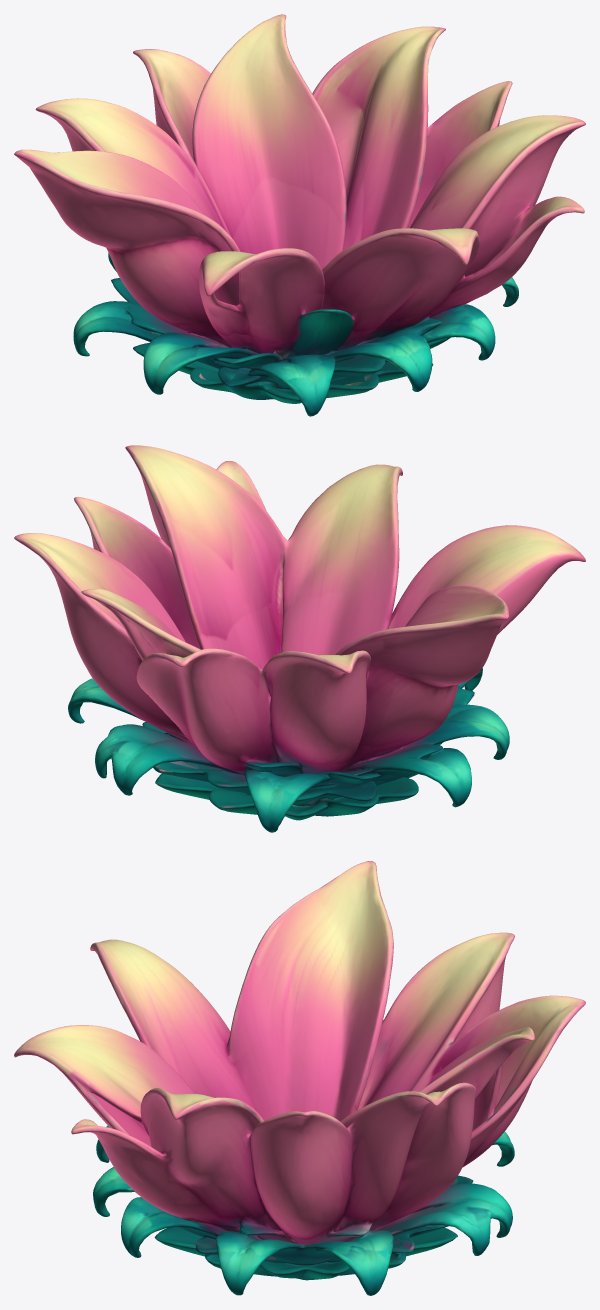
Rendered from pink-portal.glb.
3 views of the same model, one above another, from view 1: azimuth 30°, elevation 25°; view 2: azimuth 150°, elevation 25°; view 3: azimuth 270°, elevation 25° (orthographic). The views are drawn at different scales.
Visible parts, largest first — view 1: node_0; view 2: node_0; view 3: node_0.
Part boxes in pixels (x1,y1,x2,y2): node_0: (14, 14, 585, 416); node_0: (14, 445, 585, 832); node_0: (14, 861, 585, 1295).
Size of the model in its own units: 10.04 by 5.38 by 10.08.
Materials: 2 (1 with a texture image).
